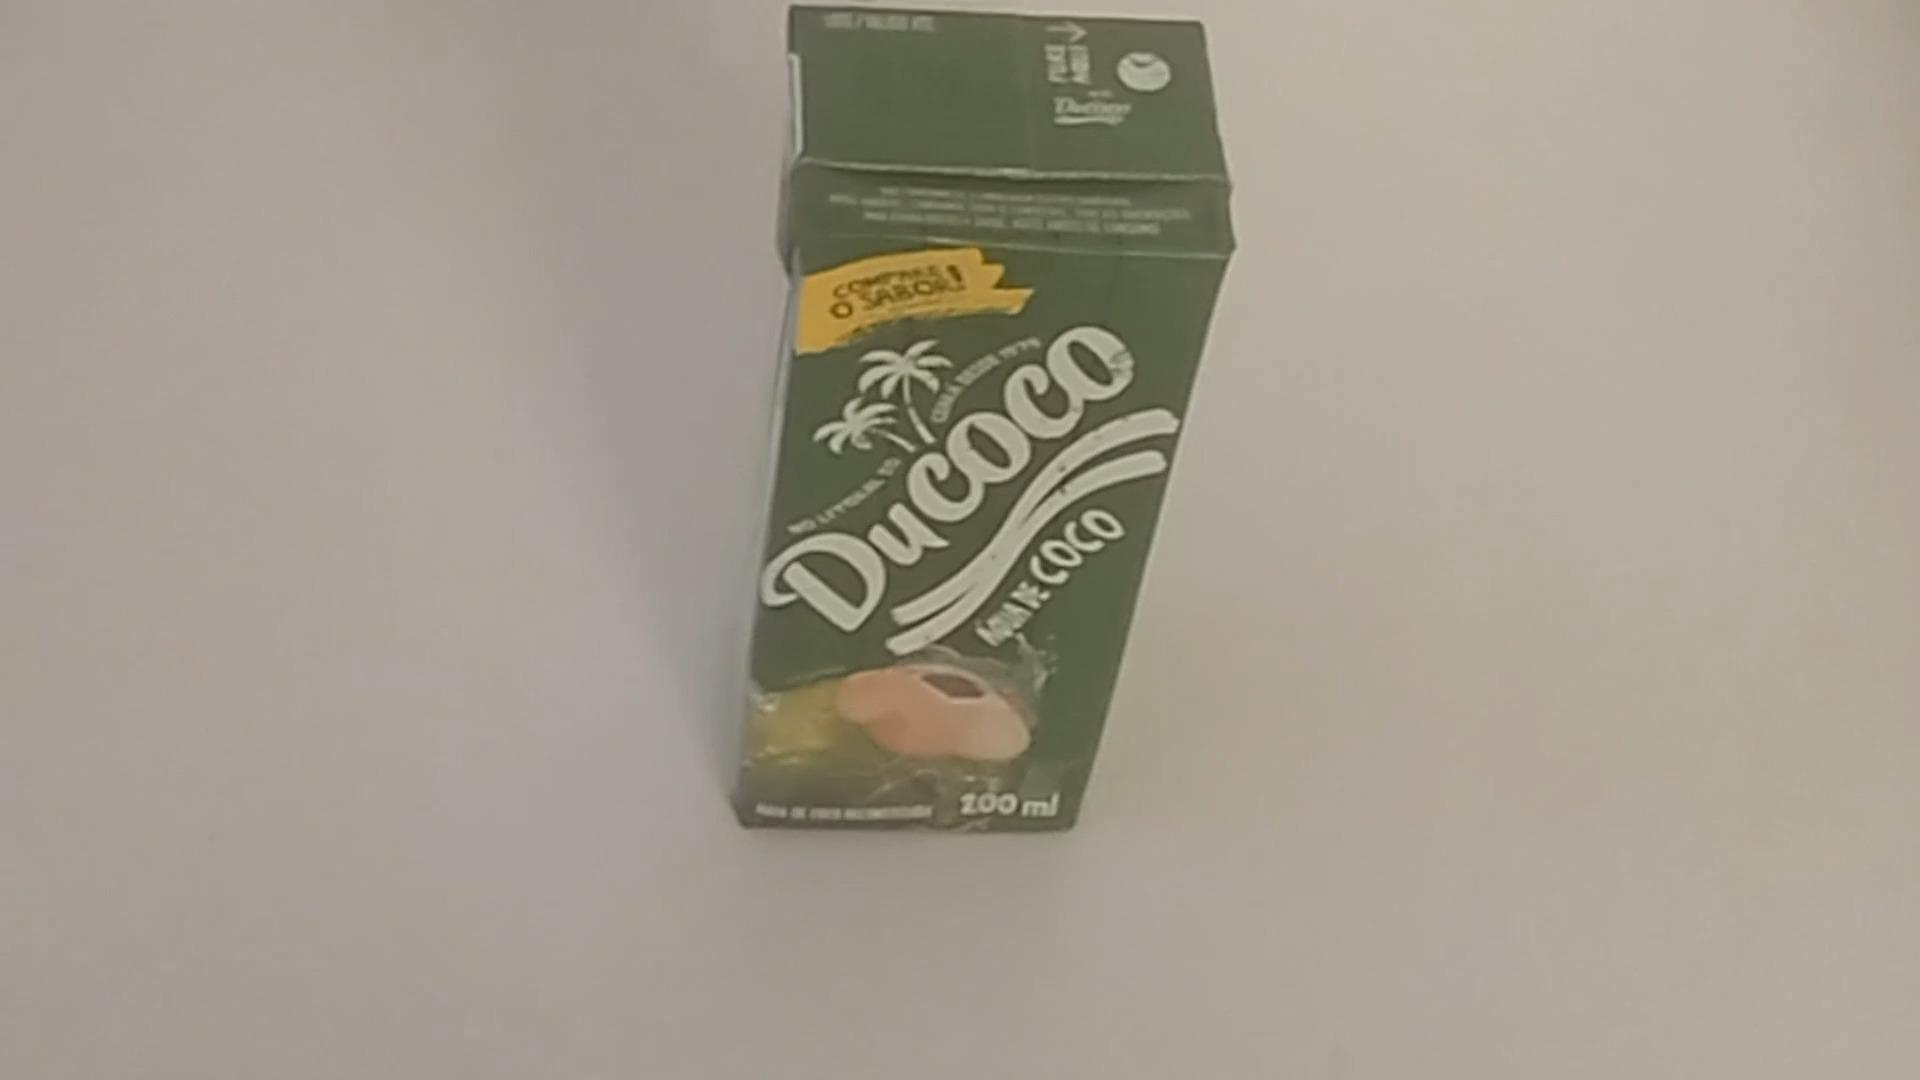coco: (732, 4, 1233, 841)
